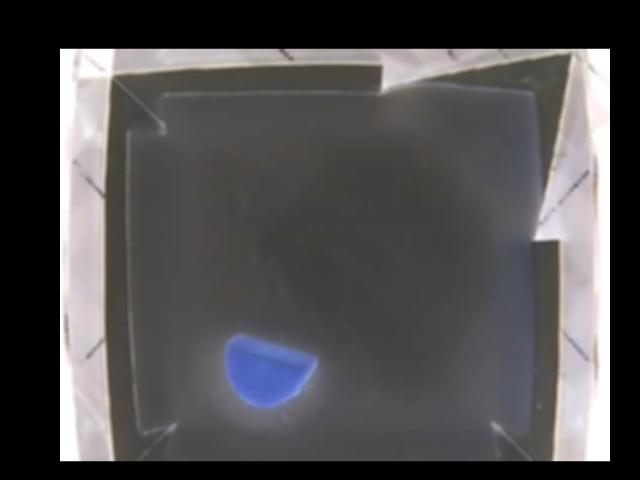Potato: (224, 334, 318, 408)
